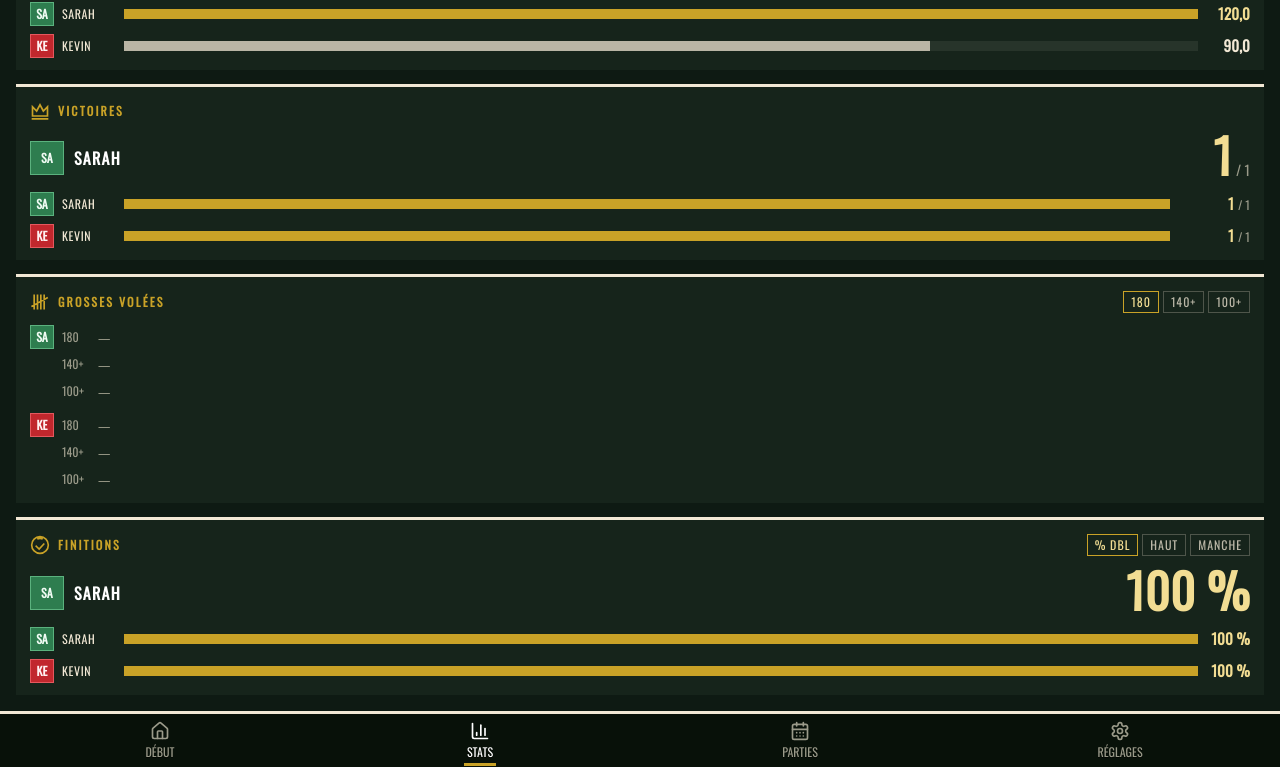
Test case: Statistiques — les cartes du podium › Finitions : « Plus haut » en décroissant, « Manche » en croissant, sans ligne de bas
(page scrolled)
Click the button with aria-label "Haut, Plus haut finish": click(1164, 545) x1=1142 y1=534 x2=1186 y2=556
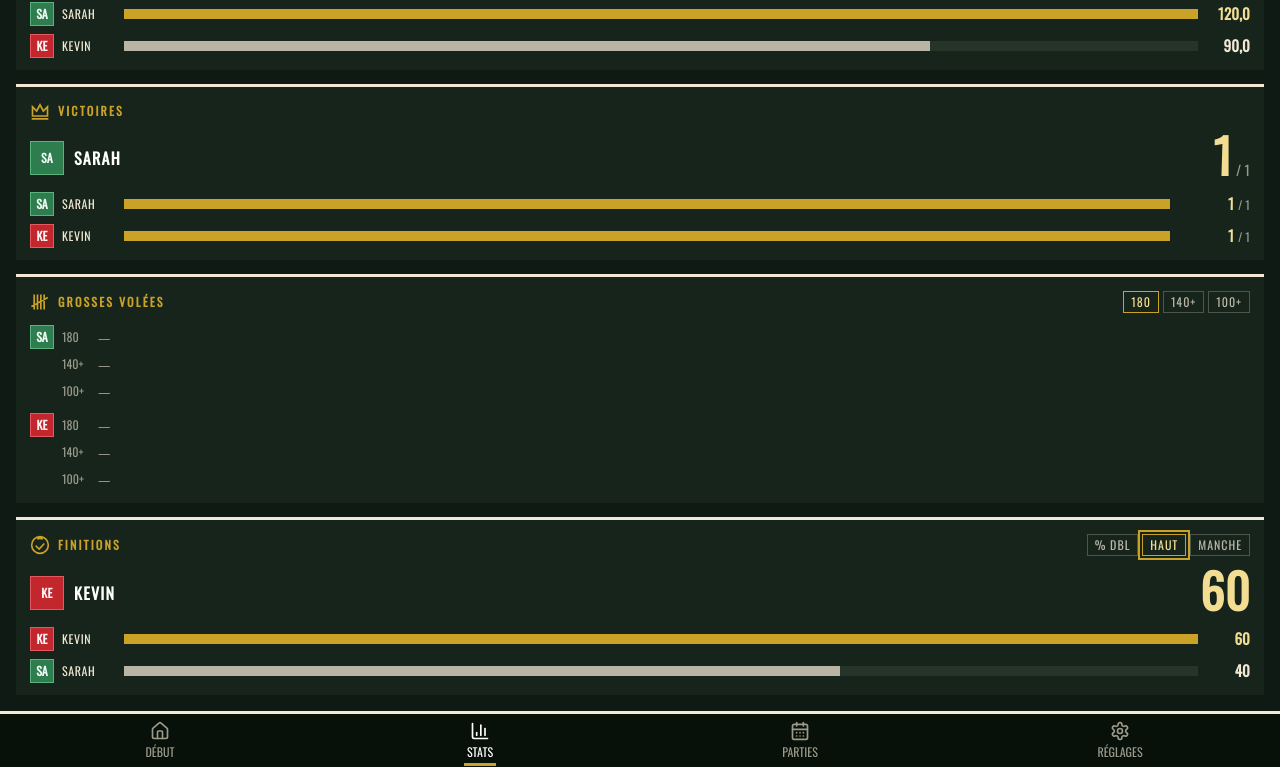
Check: the element "Finitions" does not show "Plus haut finish :", box x1=16 y1=517 x2=1264 y2=695
Check: the 1st text "60" is shown, box x1=1200 y1=554 x2=1250 y2=625
Click the button with aria-label "Manche, Manche la plus courte": click(1220, 545) x1=1190 y1=534 x2=1250 y2=556
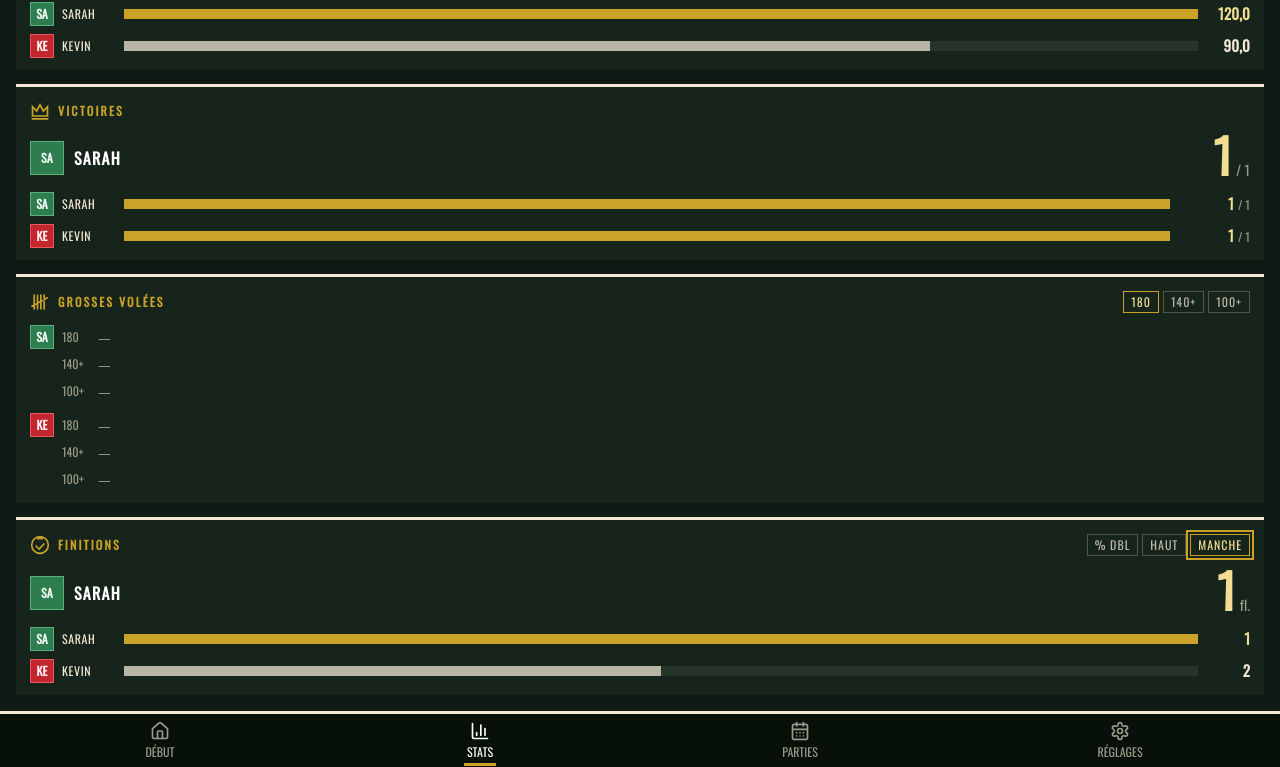
Check: the text "fl." is shown, box x1=1240 y1=594 x2=1250 y2=615
